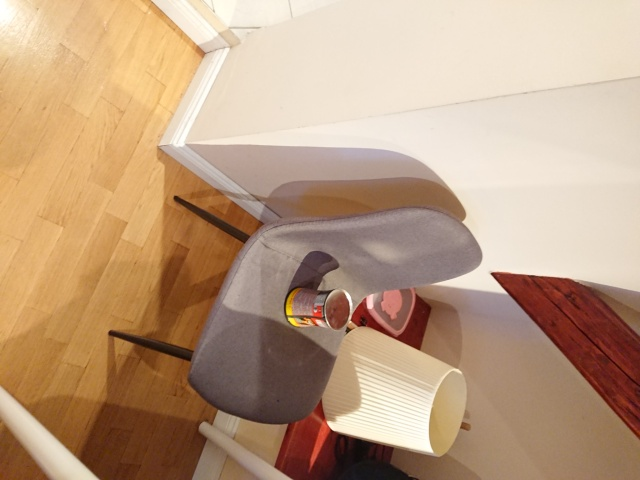Nescafe Classic 225g: (282, 284, 355, 333)
